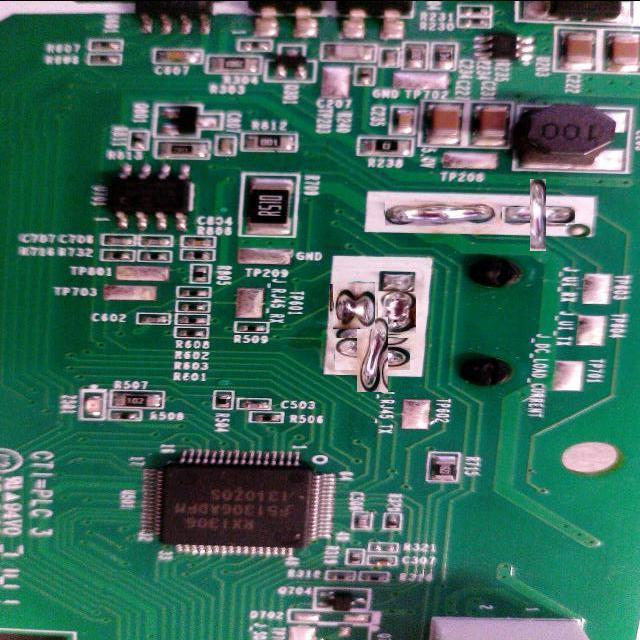Short_circuit: (346, 328, 399, 381), (385, 202, 494, 226), (331, 282, 377, 328), (516, 193, 561, 237), (376, 292, 416, 334)
